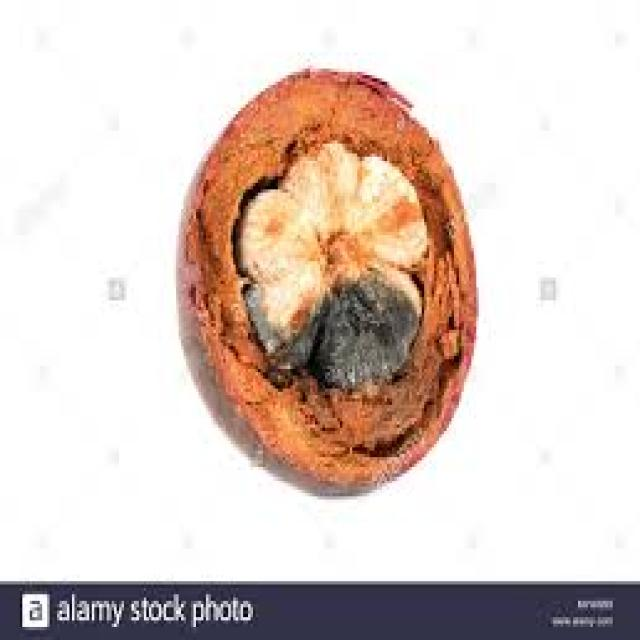biodegradable: (176, 65, 476, 493), (315, 255, 422, 382), (278, 134, 362, 268), (238, 268, 325, 376), (350, 144, 424, 268), (231, 183, 327, 268)
